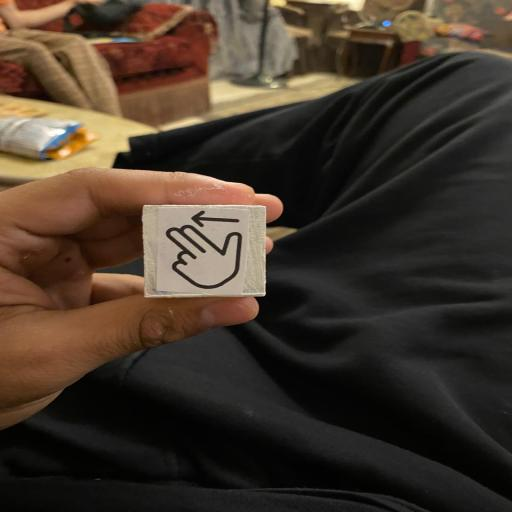LeftSwipe: (140, 202, 269, 298)
